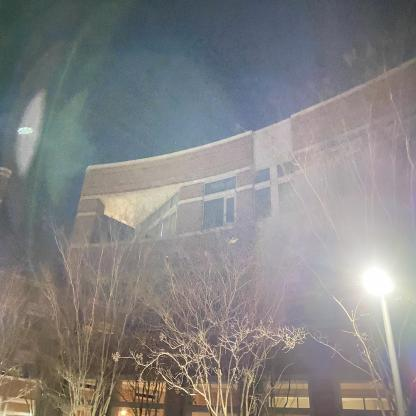eb2: (56, 113, 415, 413)
